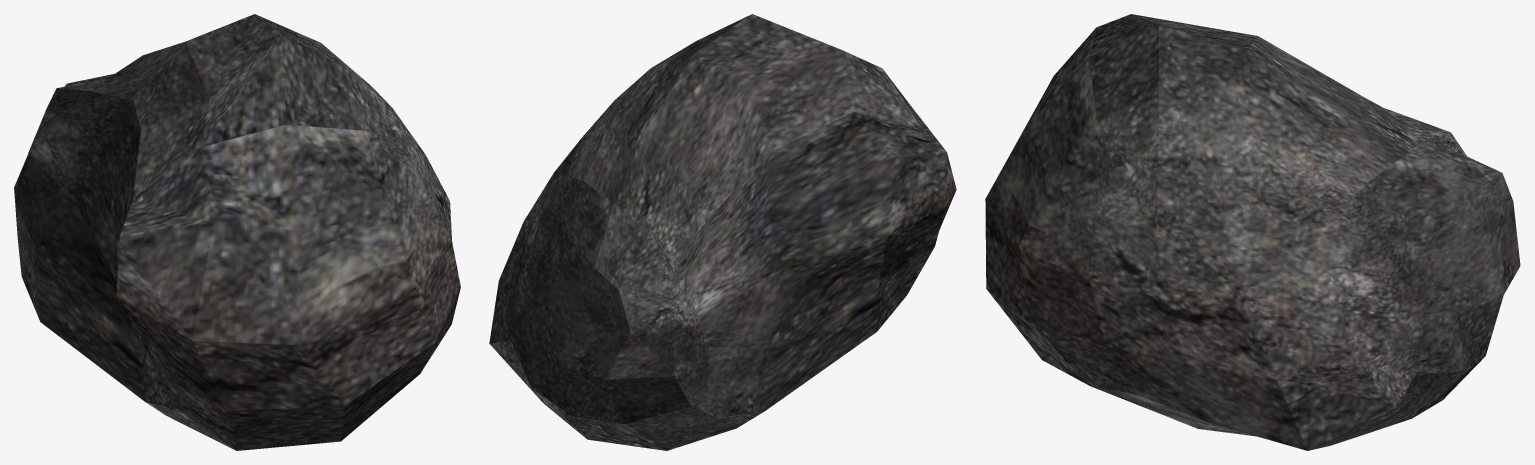
File: rock2fbx.fbx
The picture shows the model from 3 angles, left to right: view 1: azimuth 30°, elevation 25°; view 2: azimuth 150°, elevation 25°; view 3: azimuth 270°, elevation 25°; orthographic projection. The views are drawn at different scales.
Visible parts, largest first — view 1: rock2; view 2: rock2; view 3: rock2.
Part boxes in pixels (x1,y1,x2,y2): rock2: (14,14,460,450); rock2: (489,14,956,450); rock2: (985,14,1520,450).
Bounding box in the file's own units: 297 × 293 × 371.
